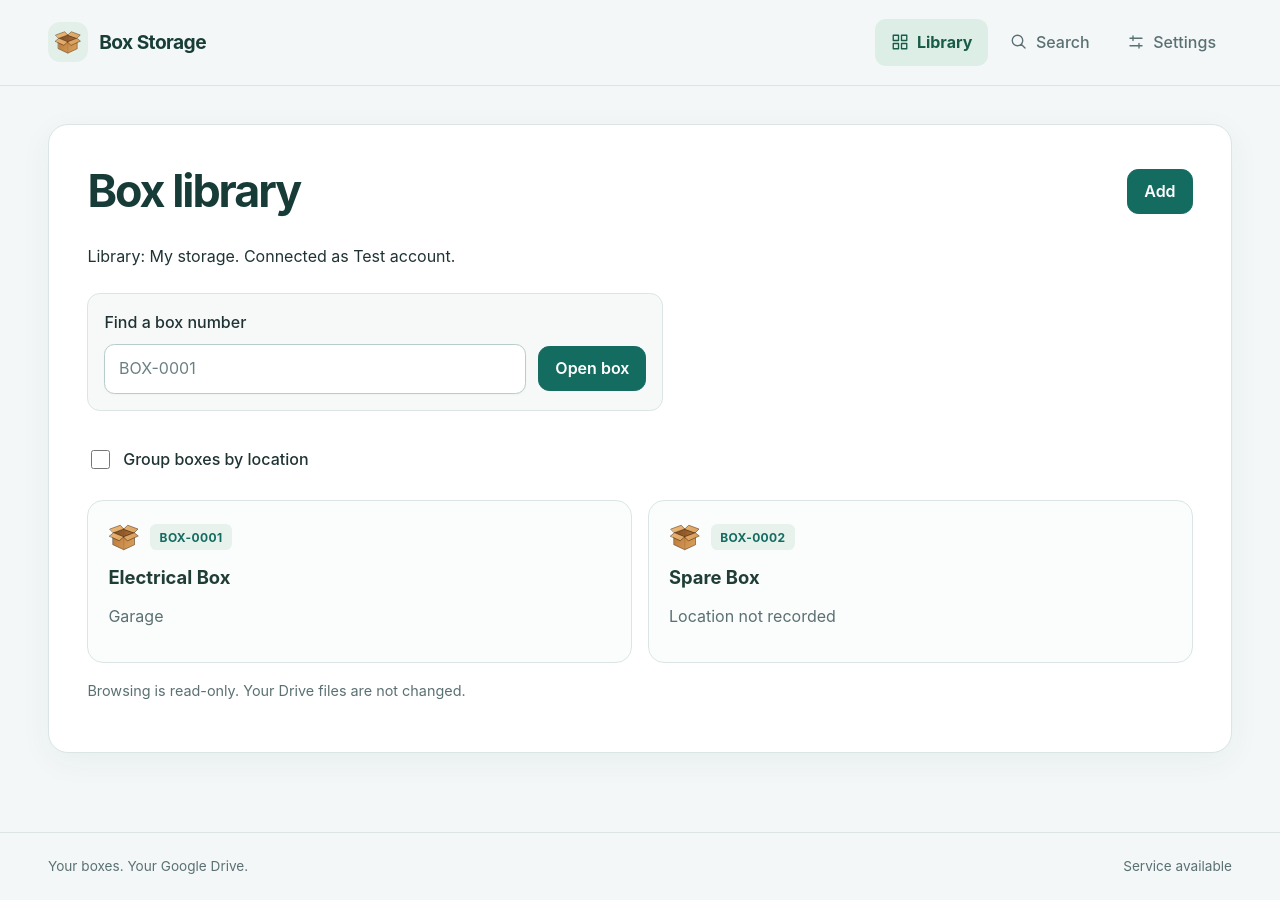
Test: inventory screens › shows box numbers, metadata and manual lookup to a nested box
The image size is (1280, 900).
Expected: the link "BOX-0001 Electrical Box" is shown, [108, 521, 232, 588]
Type "box-1" into the field labelled "Find a box number" at (315, 369), box [104, 344, 526, 394]
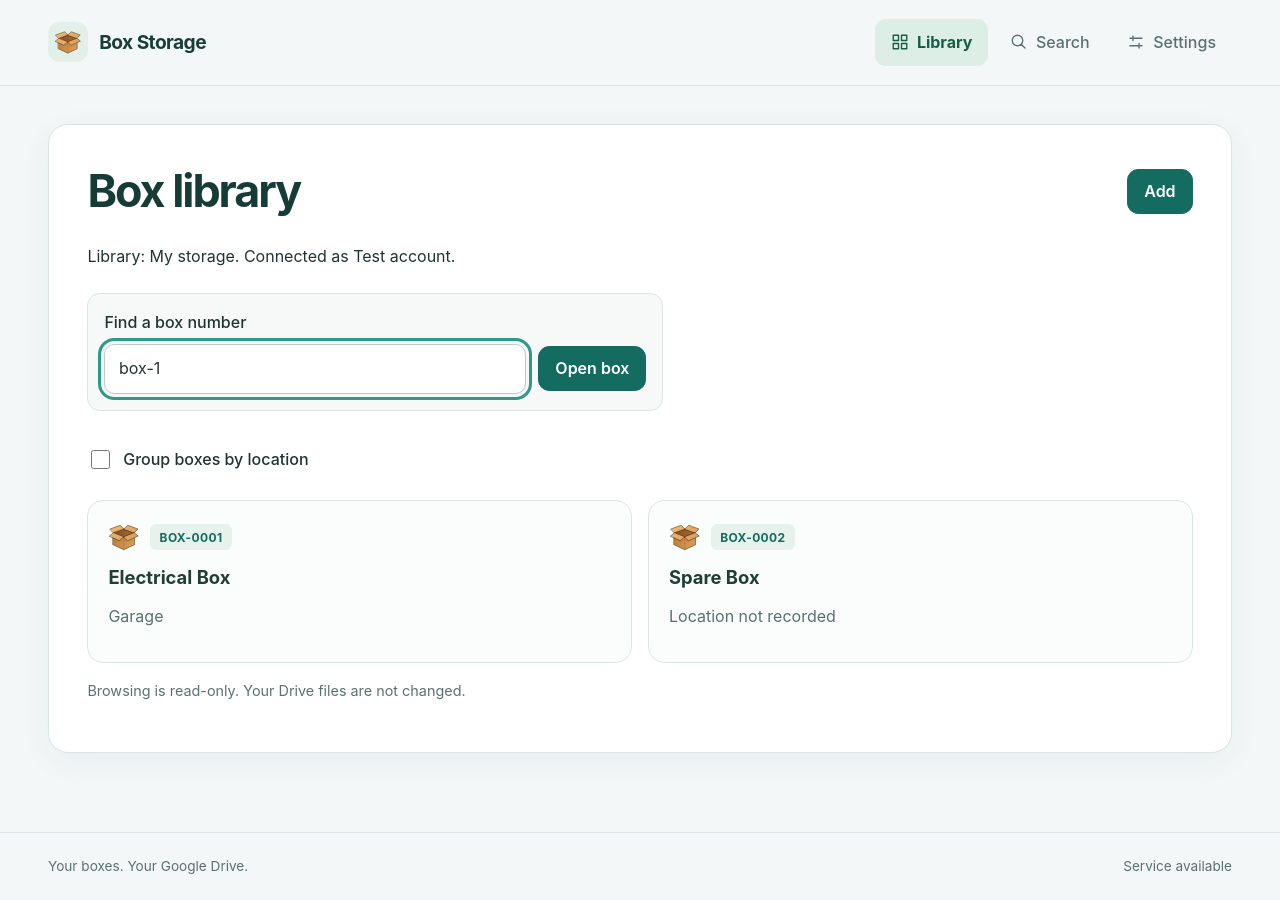
Click the button "Open box" at (592, 369), box [538, 346, 646, 391]
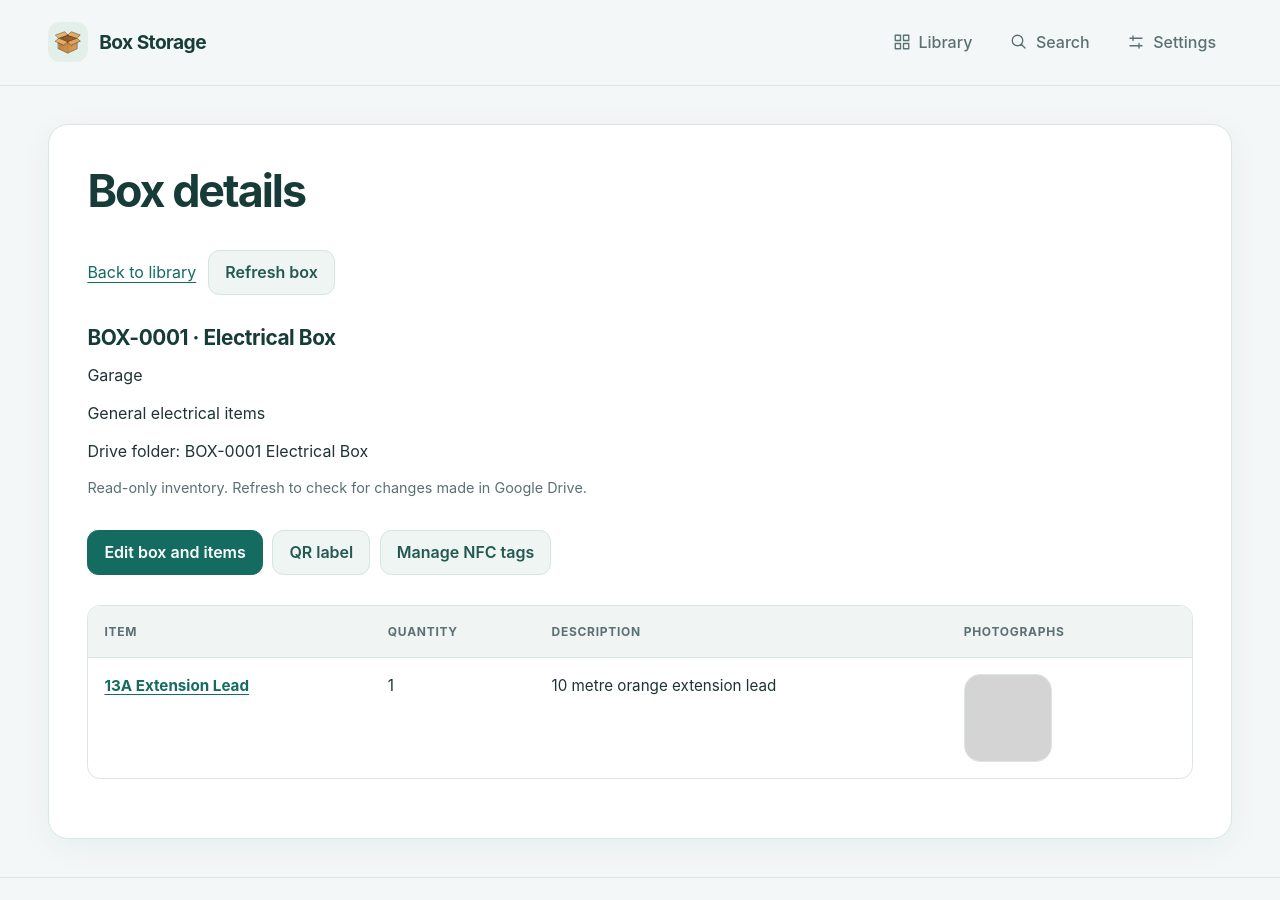
Now the link "13A Extension Lead" is shown, box [104, 676, 249, 695]
Now the column headings read "Item", "Quantity", "Description", "Photographs", in this order, box [88, 606, 372, 658]; [372, 606, 536, 658]; [536, 606, 948, 658]; [948, 606, 1192, 658]
